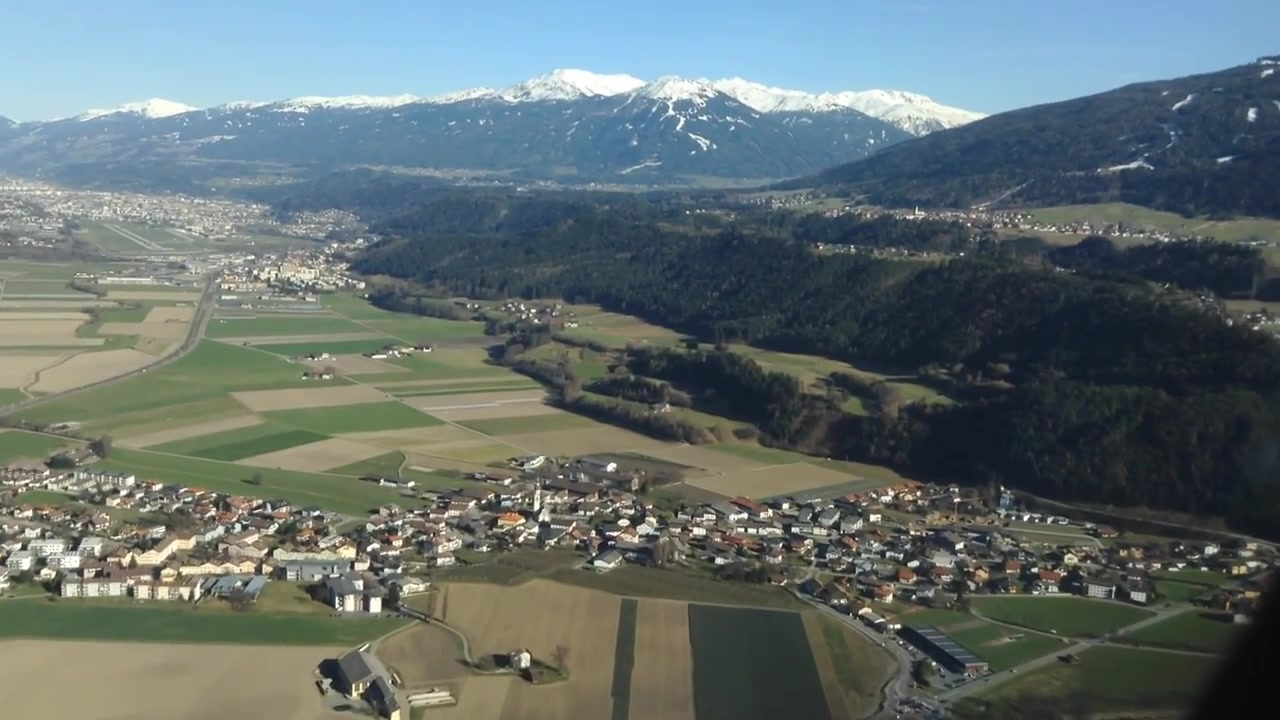runway: (100, 222, 167, 252)
